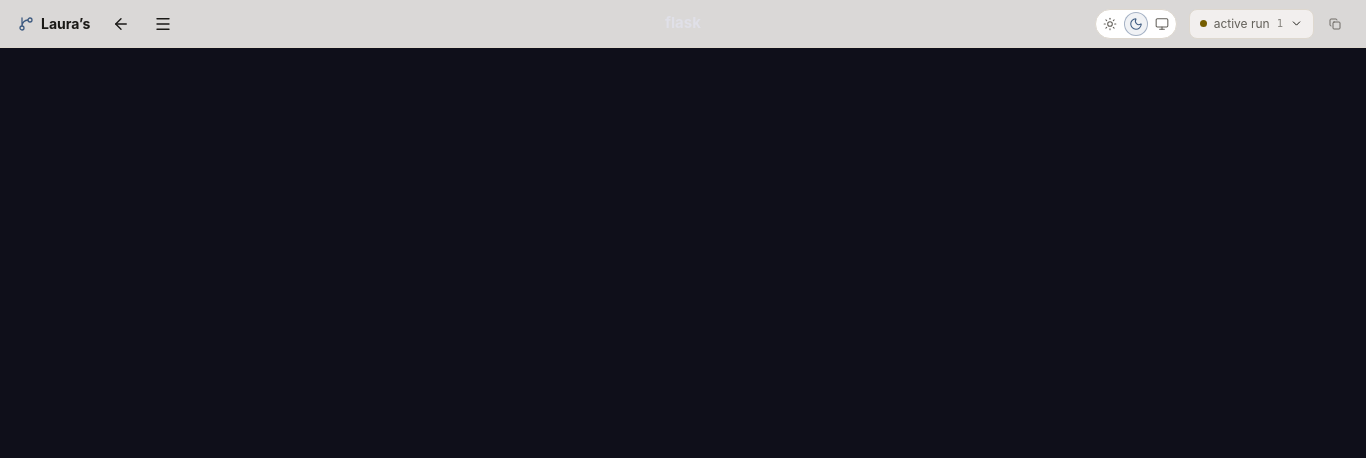
Scenario: ObservatoryTopBar navigation › opens the navigation menu with Documentation, Settings, and Analyze another repository, independent of Back
Click the button named "Open navigation" at (163, 24), box x1=148 y1=8 x2=178 y2=38
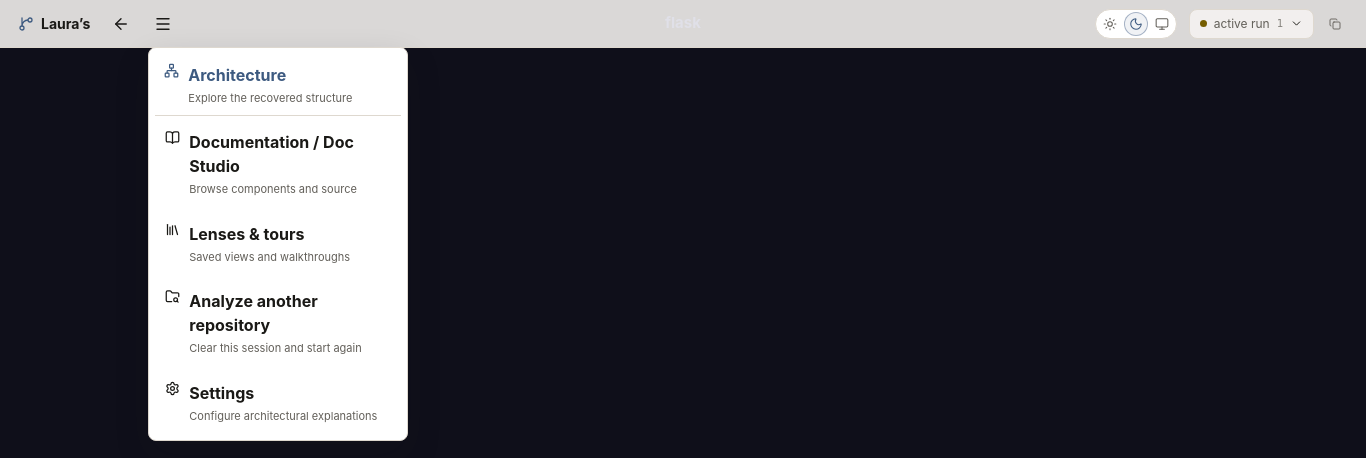
Result: the menu item "Documentation / Doc Studio Browse components and source" is shown at x1=155 y1=120 x2=401 y2=208
Result: the menu item "Settings Configure architectural explanations" is shown at x1=155 y1=370 x2=401 y2=434
Result: the menu item "Analyze another repository" is shown at x1=155 y1=279 x2=401 y2=366
